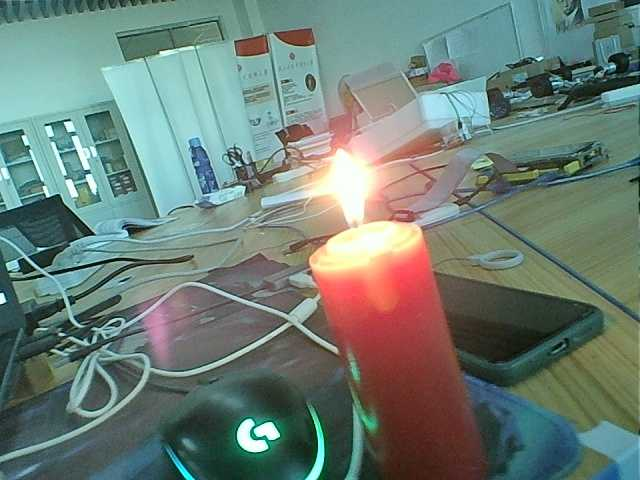candle: (301, 228, 499, 480)
fire: (312, 143, 388, 242)
